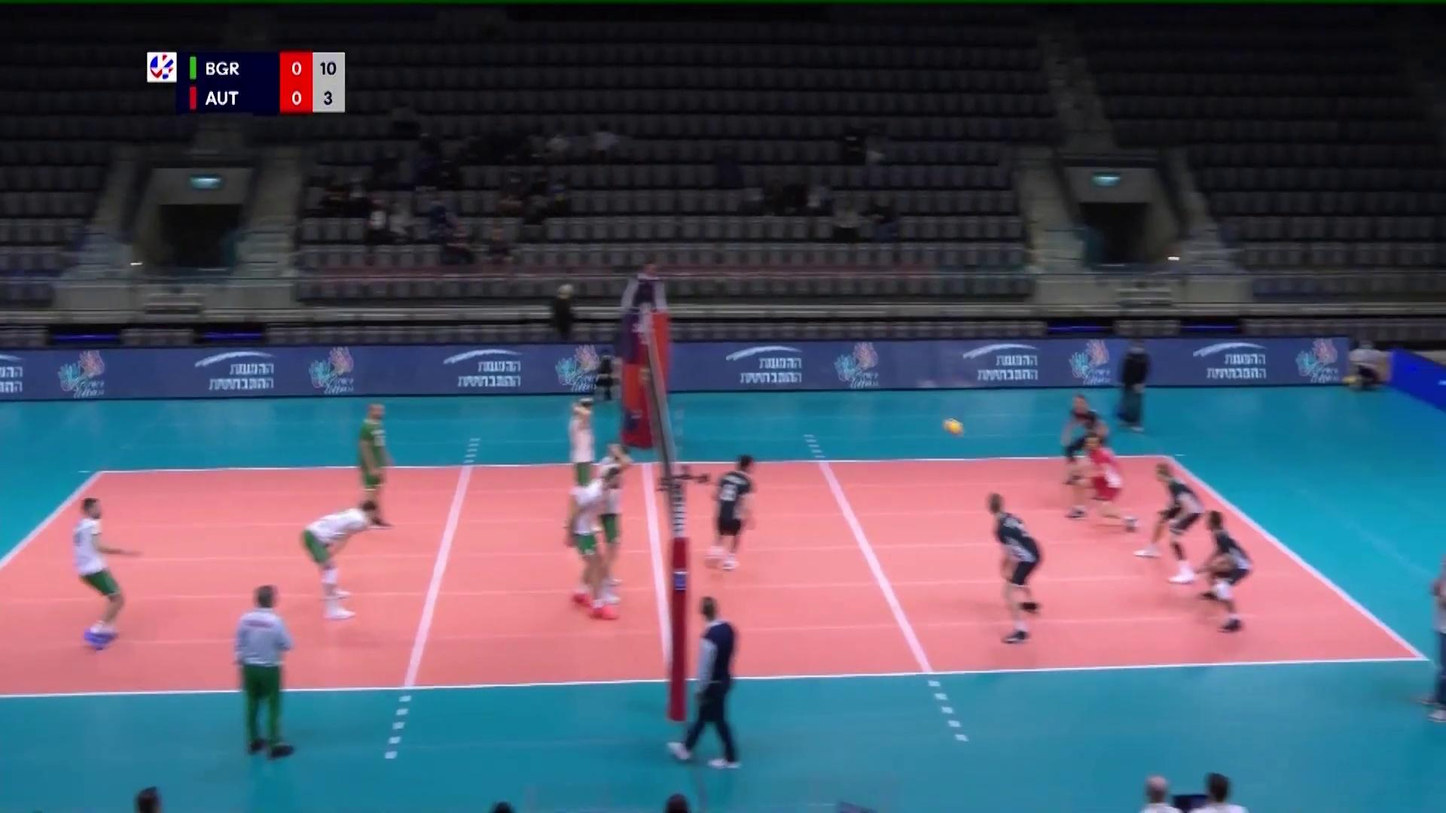ball: (942, 416, 963, 436)
